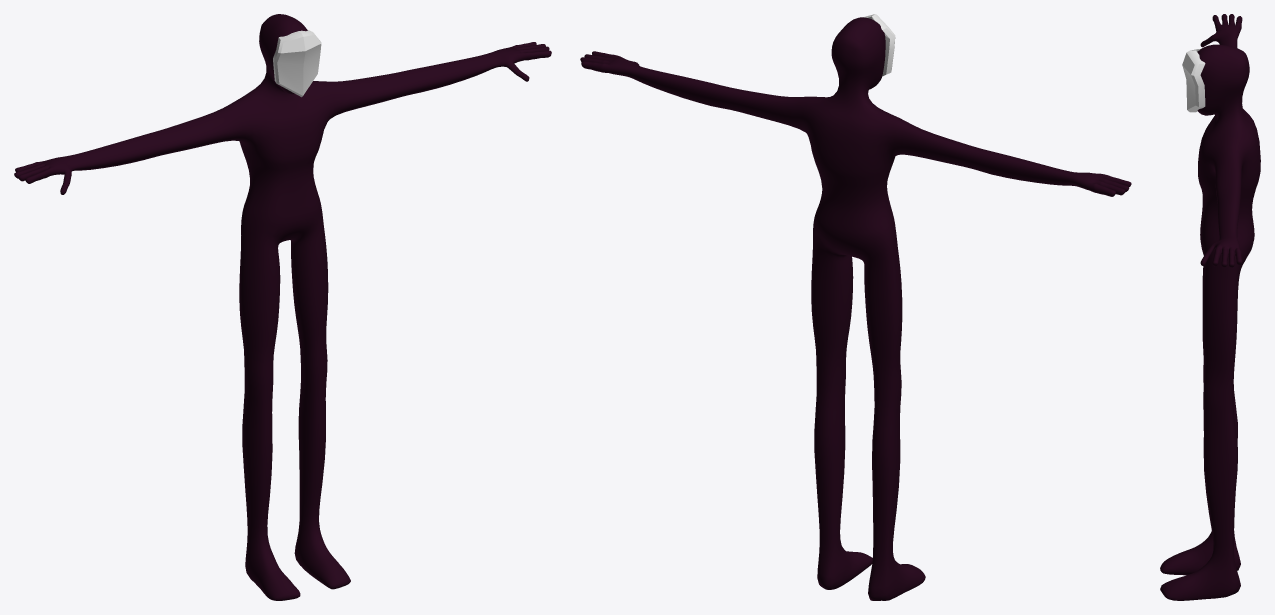
Rendered from CharacterMockup.fbx.
The picture shows the model from 3 angles, left to right: view 1: azimuth 30°, elevation 25°; view 2: azimuth 150°, elevation 25°; view 3: azimuth 270°, elevation 25°; orthographic projection. The views are drawn at different scales.
Parts seen in each view (by area): view 1: Cube.011, Cube.012; view 2: Cube.011; view 3: Cube.011, Cube.012.
Part boxes in pixels (x1,y1,x2,y2): Cube.011: (14, 14, 551, 600); Cube.012: (273, 30, 321, 97); Cube.011: (580, 17, 1131, 600); Cube.011: (1160, 14, 1260, 600); Cube.012: (1182, 49, 1205, 112).
Size of the model in its own units: 193 by 194 by 32.94.
